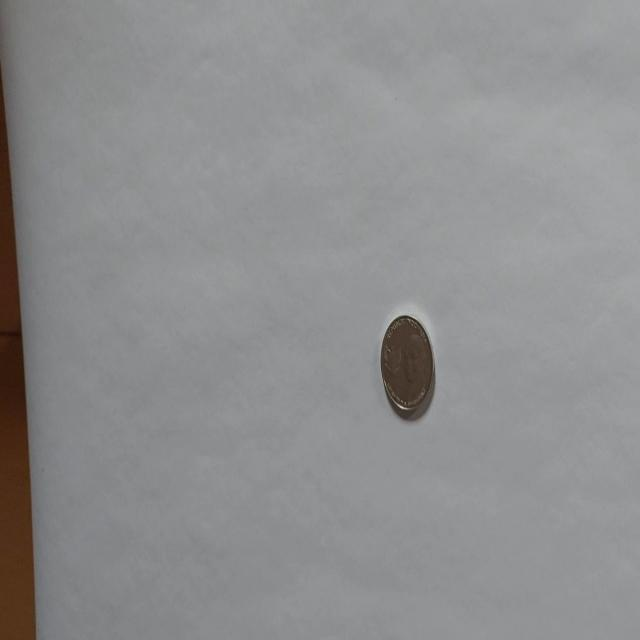lima ratus rupiah: (379, 312, 435, 419)
